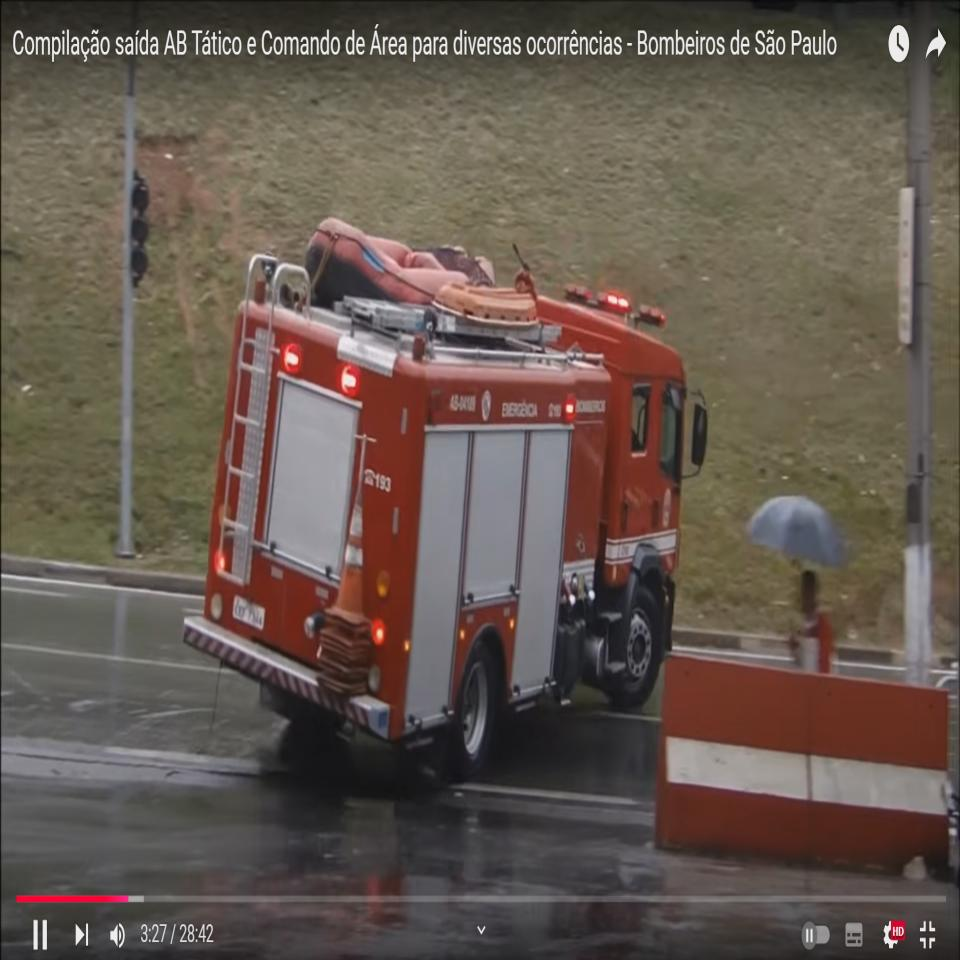viatura: (182, 209, 710, 789)
